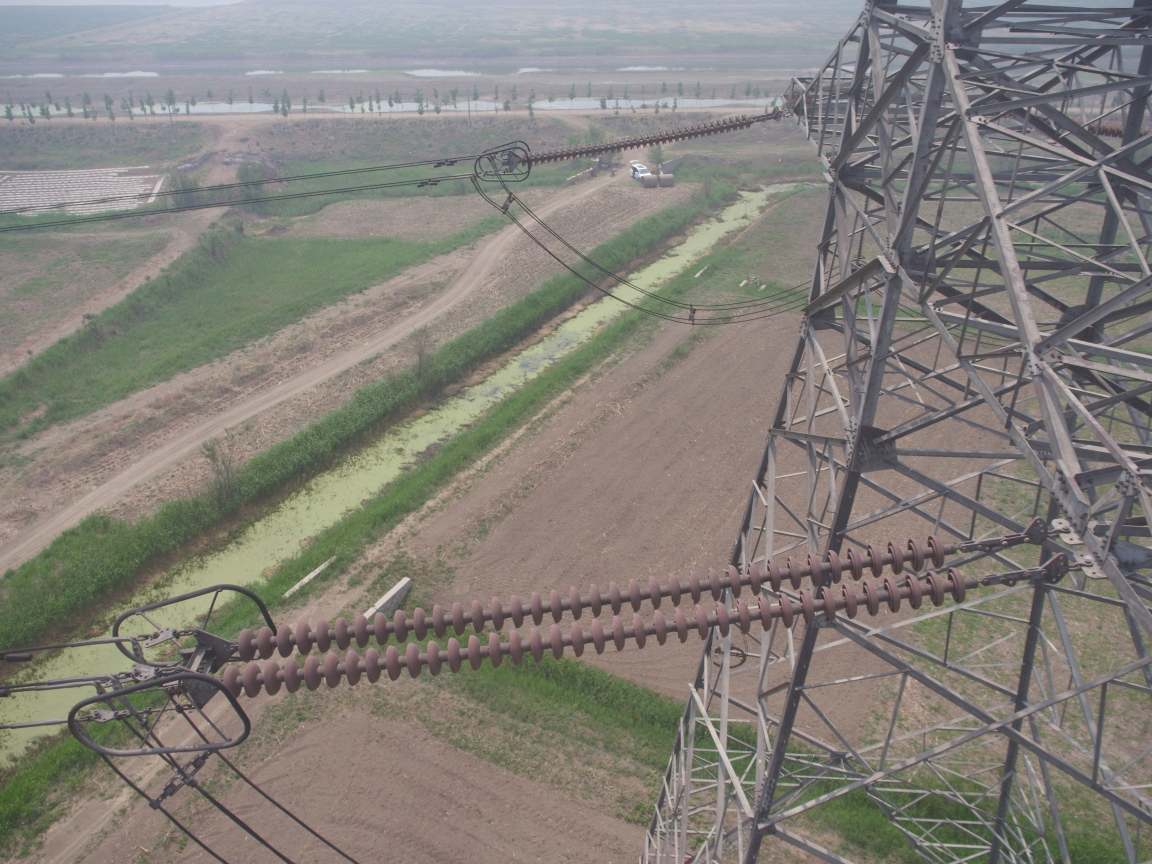insulator: (198, 530, 1009, 703), (515, 110, 772, 167)
